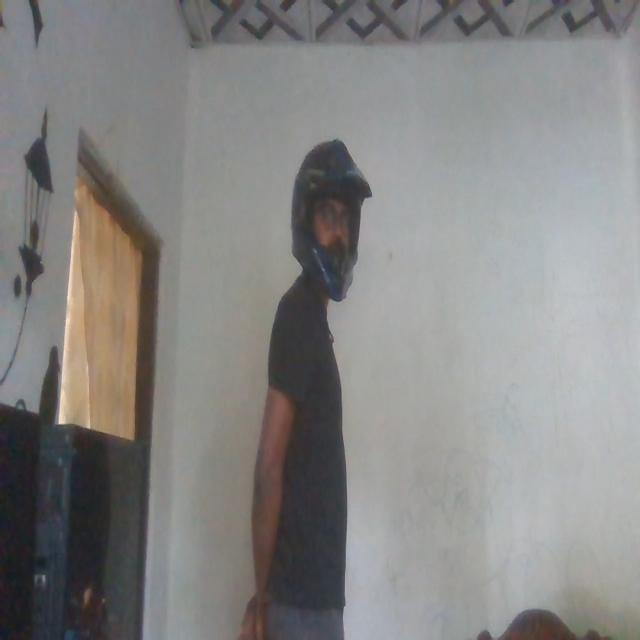Helmet_Wearer: (292, 138, 370, 308)
Person: (240, 146, 377, 640)
